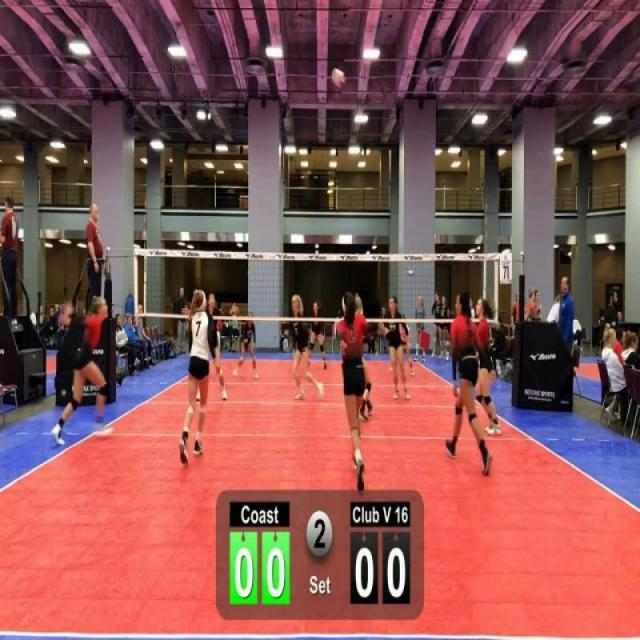volleyball: (328, 63, 349, 94)
